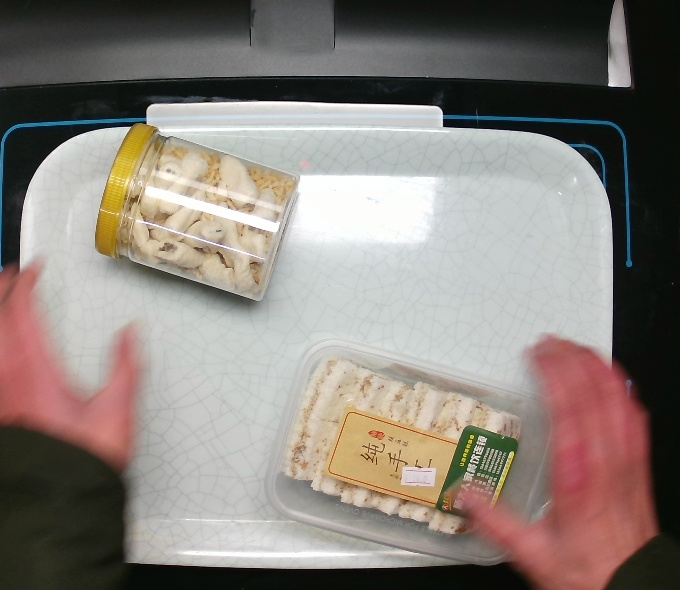wcq-GuiHuaGao: (259, 334, 561, 569)
wcq-MaiYaTang: (89, 119, 303, 304)
